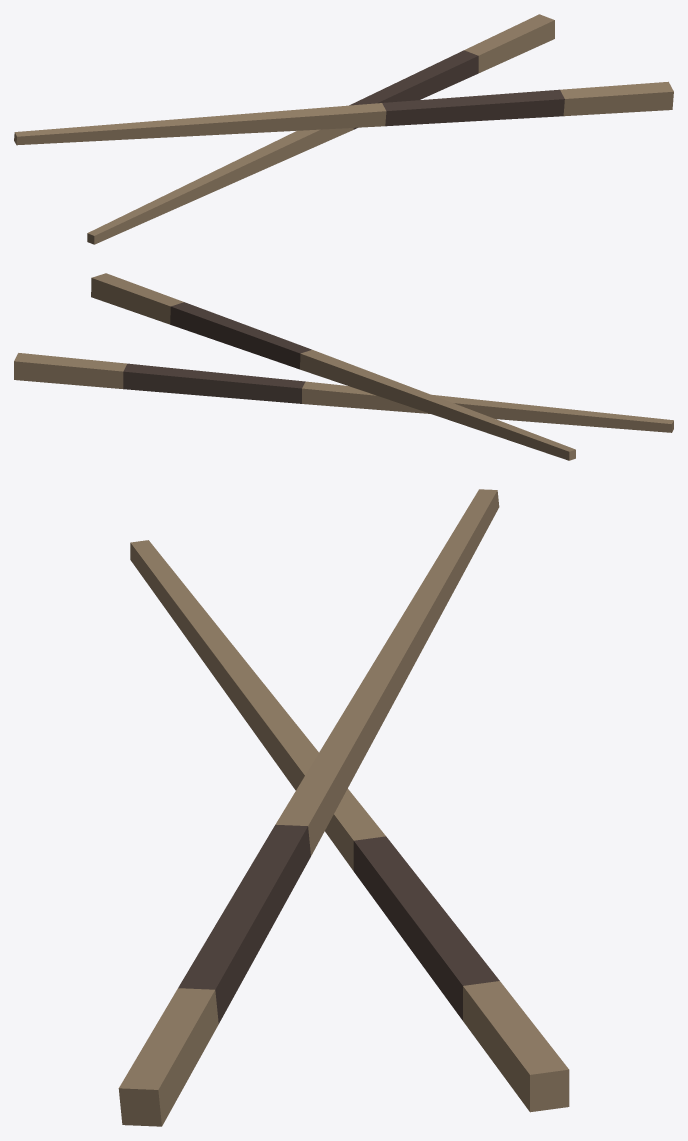
The model's file is hashiPair.fbx.
3 renders of one model, top to bottom at view 1: azimuth 30°, elevation 25°; view 2: azimuth 150°, elevation 25°; view 3: azimuth 270°, elevation 25°, orthographic. The views are drawn at different scales.
Visible parts, largest first — view 1: hashiPair; view 2: hashiPair; view 3: hashiPair.
Boxes of the visible parts, <box> form: hashiPair: <box>14,14,673,244</box>; hashiPair: <box>14,273,673,460</box>; hashiPair: <box>118,489,569,1126</box>.
Size of the model in its own units: 42.99 by 3.28 by 14.51.
Materials: 1 (1 with a texture image).
